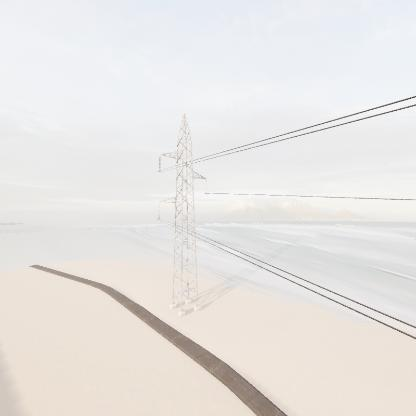tower: (157, 113, 214, 326)
